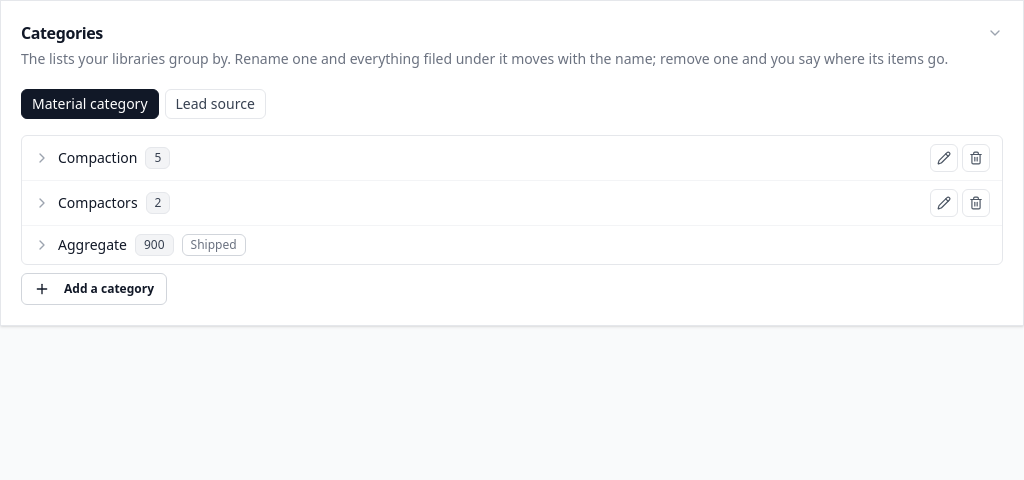
it: removing one › moves them where you said, and says what happened
Expected: the text "Compaction" is shown, [58,148,137,168]
Step 1. Click the button named "Remove Compaction" → (976, 158), box [962,144,990,172]
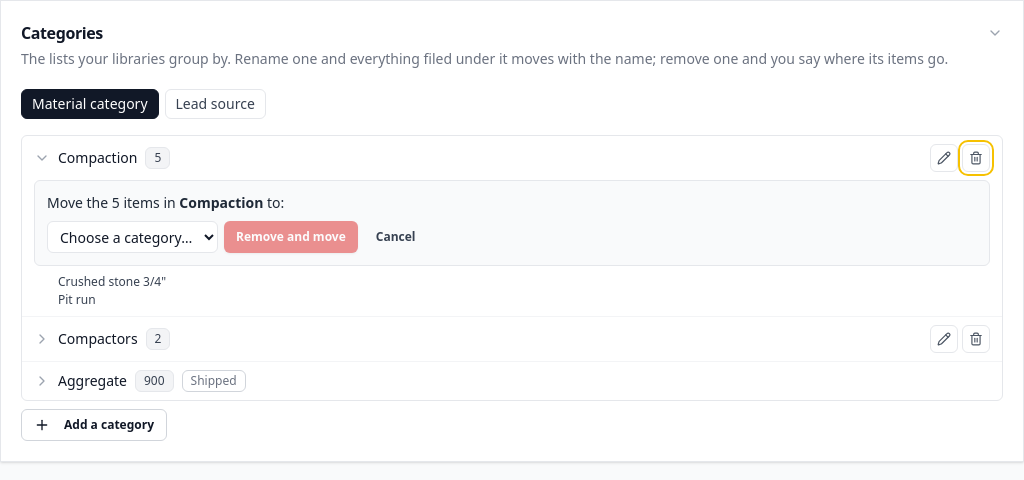
Step 2. Select "Compactors" in the dropdown named "Where the items in Compaction go" → (132, 237), box [47,221,218,253]
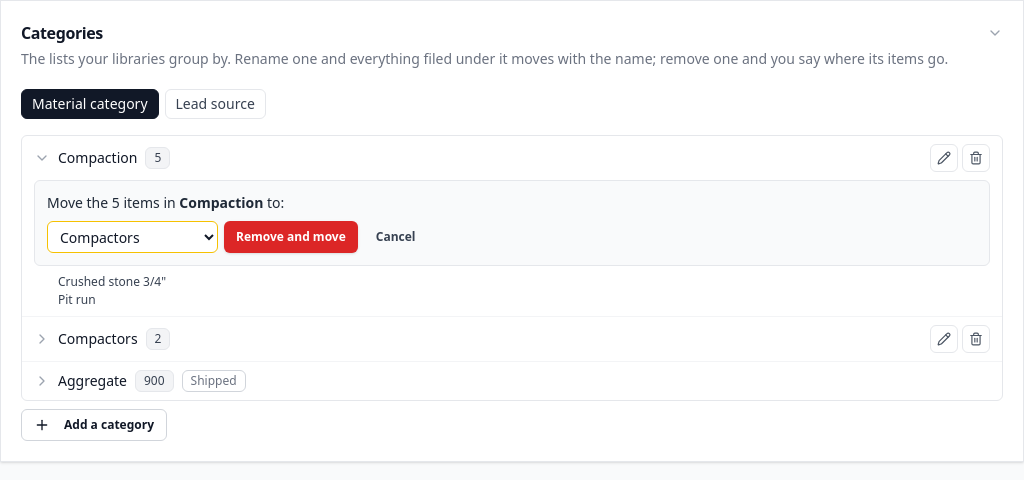
Step 3. Click the button "Remove and move" → (291, 237), box [224,221,358,253]
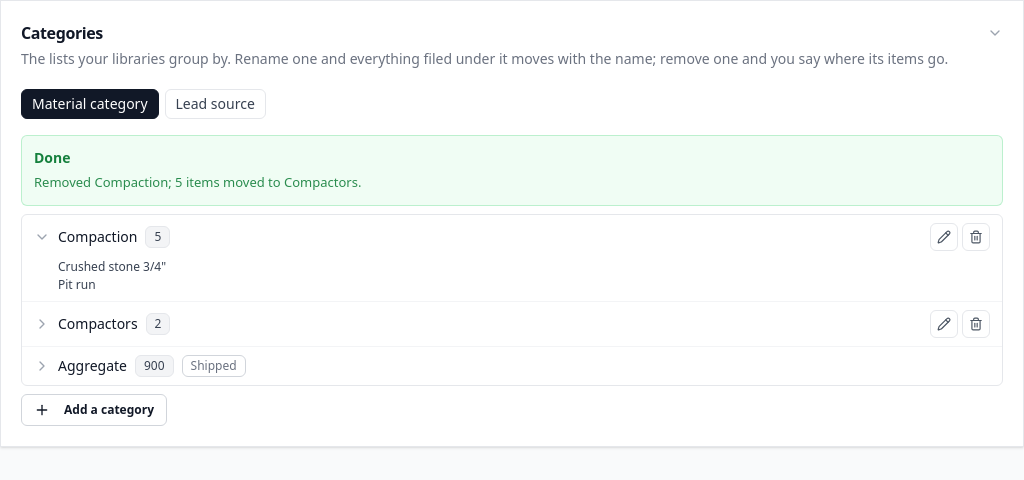
Result: the text "Removed Compaction; 5 items moved to Compactors." is shown at [34,172,361,193]
